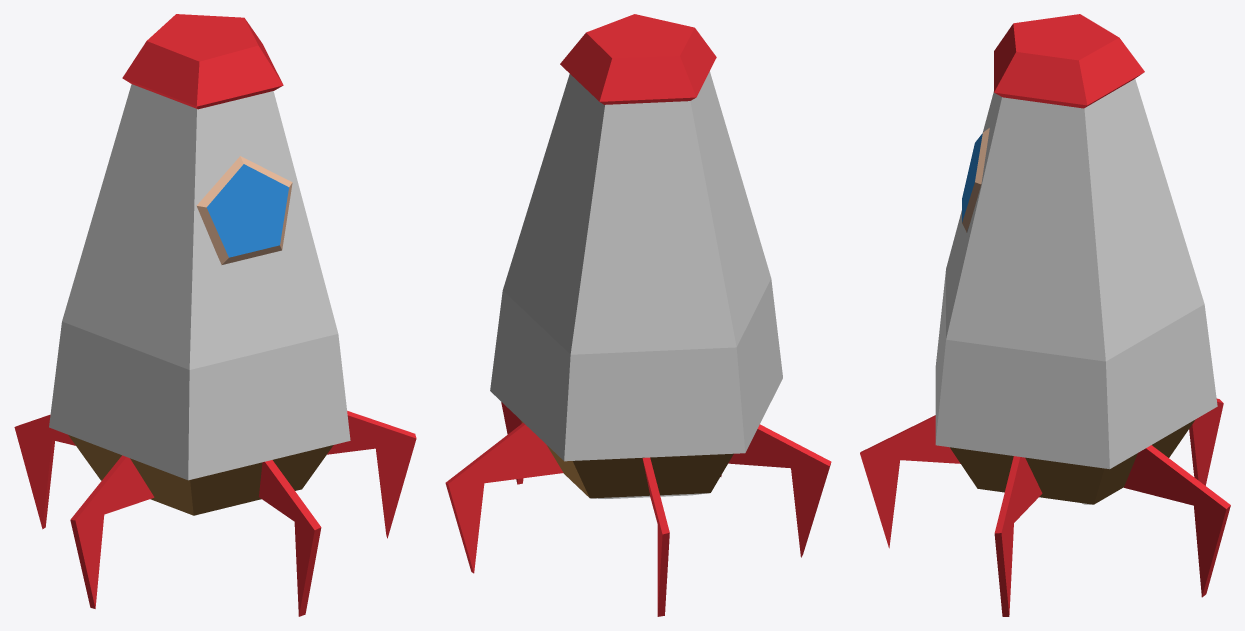
Rendered from rocketship 1.fbx.
3 views of the same model, side by side, from view 1: azimuth 30°, elevation 25°; view 2: azimuth 150°, elevation 25°; view 3: azimuth 270°, elevation 25° (orthographic). The views are drawn at different scales.
Visible parts, largest first — view 1: mainBody, rocketCap, window, rocketLeg.005, rocketLeg.003, rocketLeg.002, rocketLeg.001; view 2: mainBody, rocketCap, rocketLeg.004, rocketLeg.005, rocketLeg.001; view 3: mainBody, rocketCap, rocketLeg.004, rocketLeg.002, rocketLeg.003, rocketLeg.001, window.
Part boxes in pixels (<box>): mainBody: <box>49,84,350,515</box>; rocketCap: <box>122,14,283,109</box>; window: <box>196,156,292,264</box>; rocketLeg.005: <box>70,455,154,608</box>; rocketLeg.003: <box>327,410,416,538</box>; rocketLeg.002: <box>258,460,321,616</box>; rocketLeg.001: <box>14,414,75,529</box>; mainBody: <box>490,71,782,498</box>; rocketCap: <box>560,14,716,104</box>; rocketLeg.004: <box>445,422,563,573</box>; rocketLeg.005: <box>728,424,831,557</box>; rocketLeg.001: <box>642,457,669,616</box>; mainBody: <box>935,79,1217,504</box>; rocketCap: <box>994,14,1144,108</box>; rocketLeg.004: <box>1124,445,1230,597</box>; rocketLeg.002: <box>860,415,960,548</box>; rocketLeg.003: <box>994,456,1042,616</box>; rocketLeg.001: <box>1189,398,1223,485</box>; window: <box>962,128,989,232</box>.
Bounding box in the file's own units: 373 × 542 × 357.
